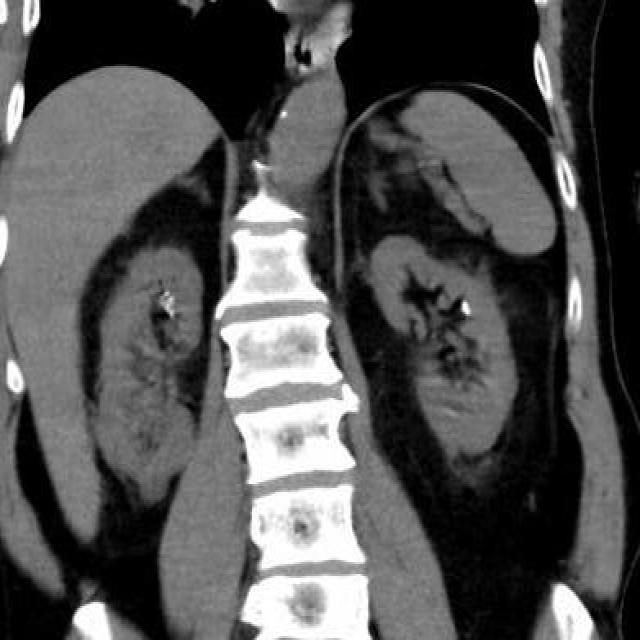Tas_Var: (459, 298, 472, 316), (160, 299, 177, 307), (160, 304, 173, 312), (164, 288, 174, 298), (170, 309, 178, 319)
